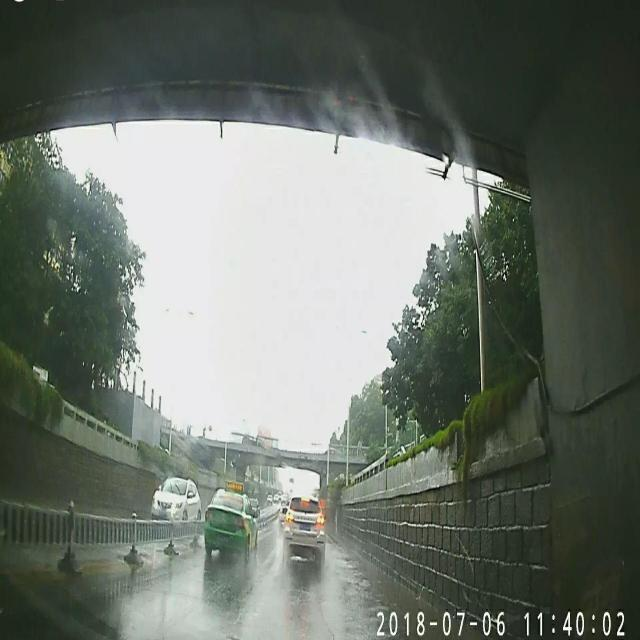car: (208, 486, 256, 560), (282, 494, 326, 571), (151, 475, 199, 528)
